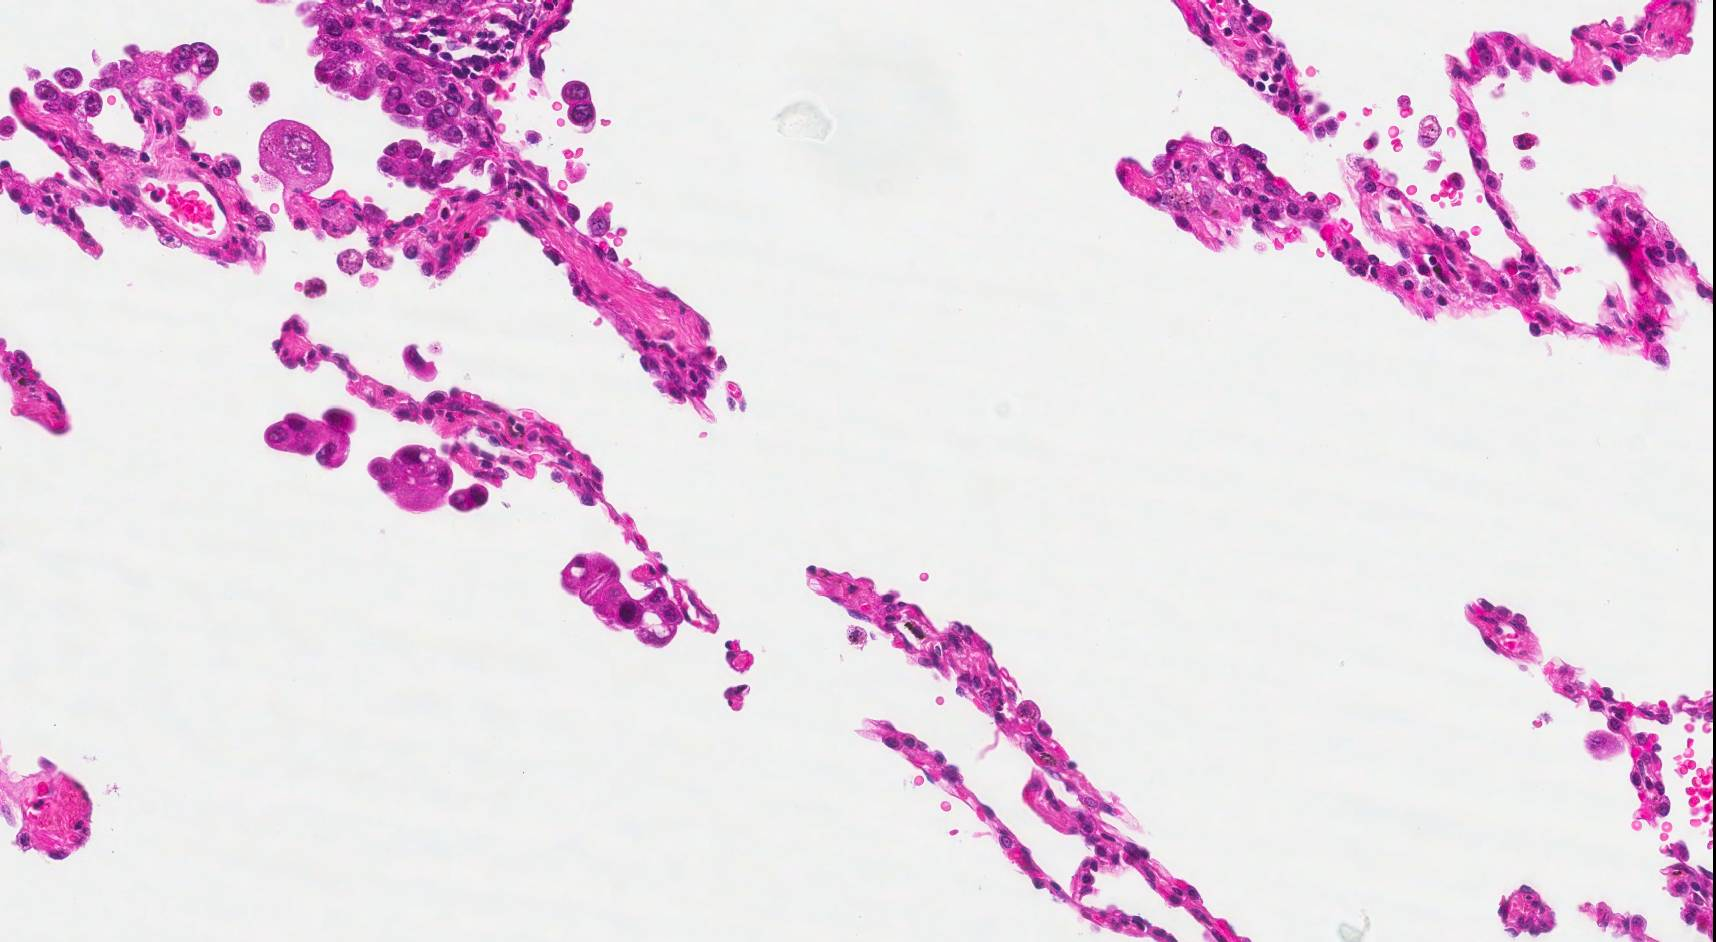stas: (560, 550, 683, 650), (260, 404, 357, 473), (366, 443, 453, 516), (377, 139, 463, 187), (562, 77, 597, 129), (450, 482, 490, 513)
